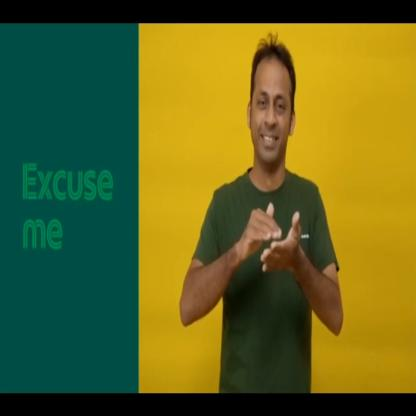ExcuseMe: (178, 34, 344, 390)
